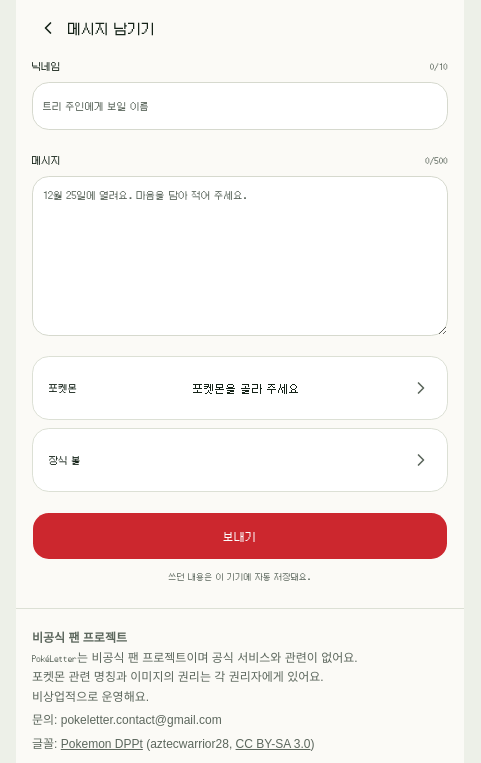
it: WritePage › 닉네임과 내용이 비어 있으면 보내지 않는다
Click the button "보내기". click: (240, 536)
box: [32,512,448,560]
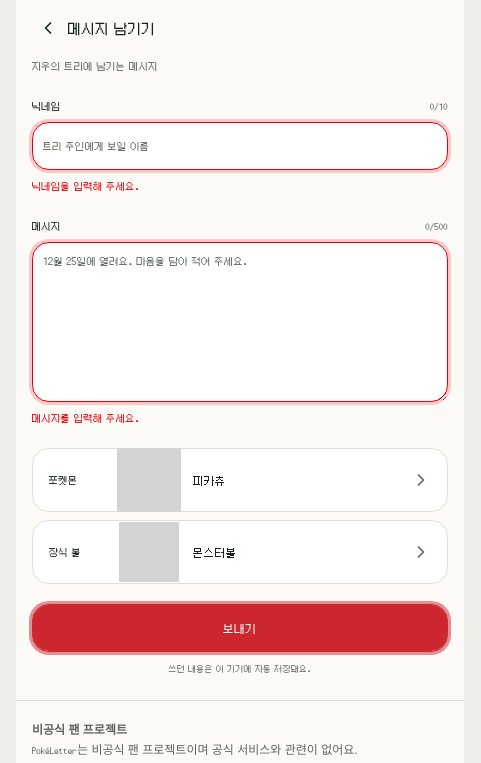
Expected: the text "닉네임을 입력해 주세요." is shown, [32,179,140,193]
Expected: the text "메시지를 입력해 주세요." is shown, [32,411,140,425]
